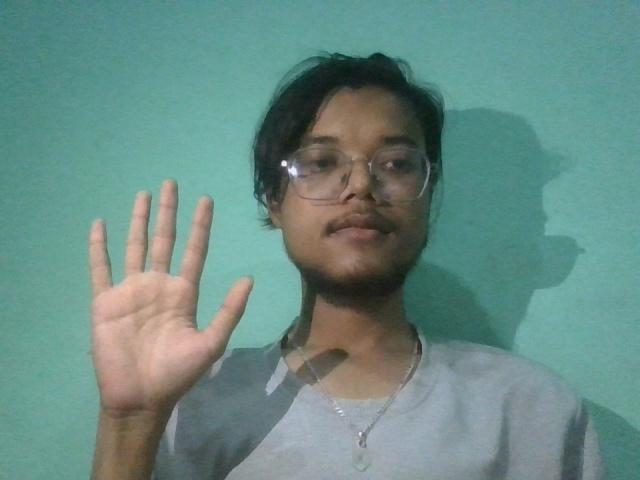hello: (63, 163, 261, 419)
